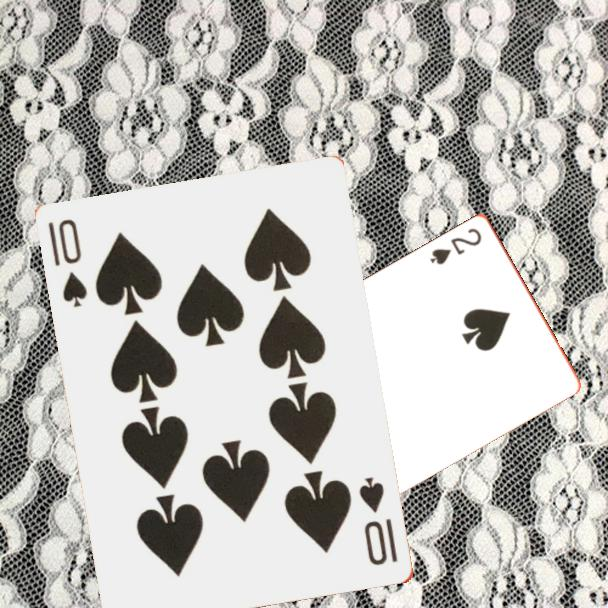s02: (426, 224, 485, 267)
s10: (45, 215, 91, 310), (356, 474, 401, 569)
